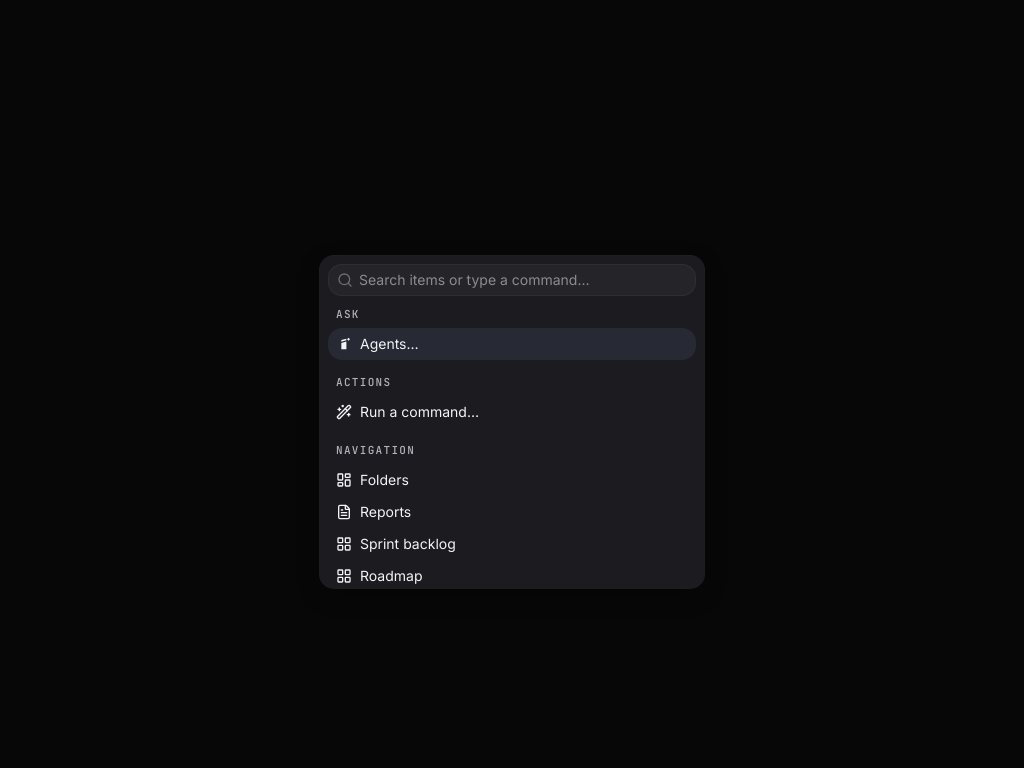
Test: CommandPalette › shows an empty state when a valid query matches no items
The width and height of the screenshot is (1024, 768).
Type "zzzzz" into the dropdown with placeholder "Search items or type a command…" at [524, 280], box x1=353 y1=270 x2=695 y2=290
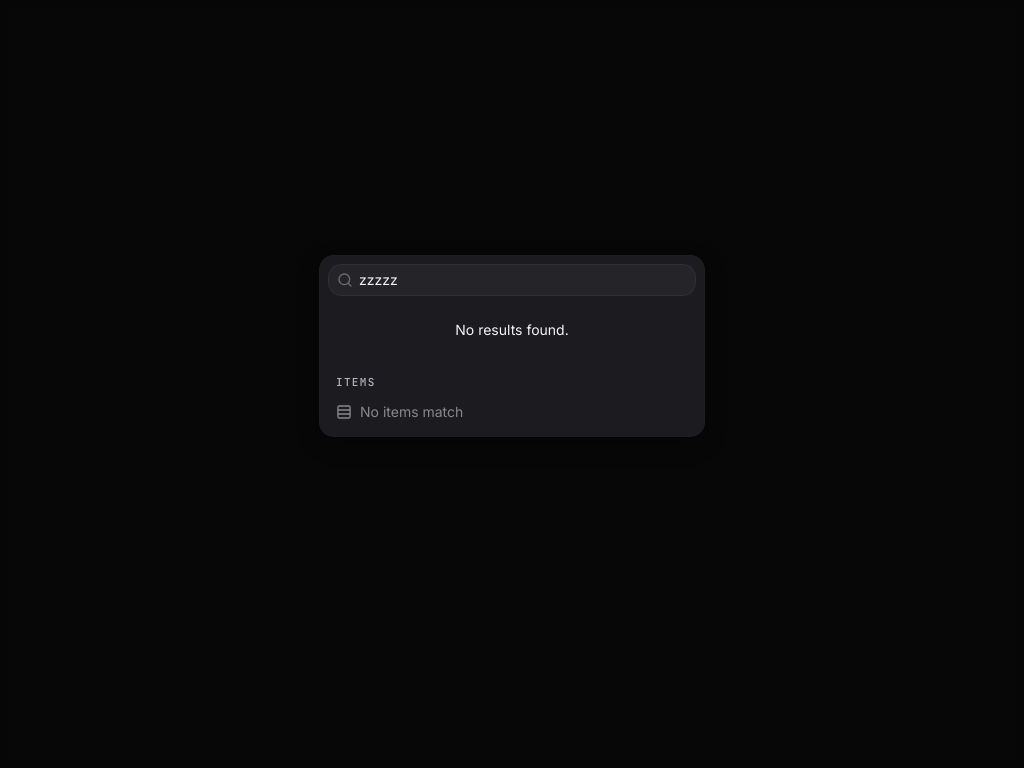
expect the option "No items match" is shown: met, box x1=336 y1=403 x2=463 y2=420
